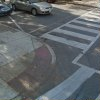crosswalk: (42, 6, 99, 53)
